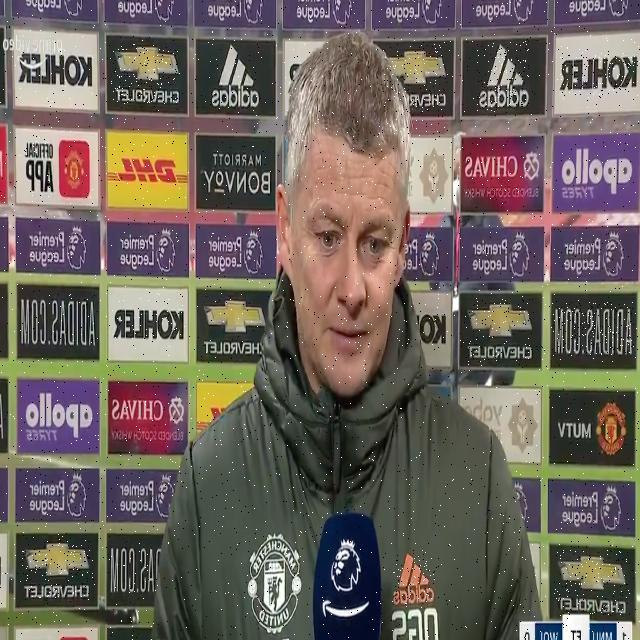Adidas: (551, 302, 634, 356), (19, 296, 98, 350), (208, 44, 261, 112), (477, 40, 529, 108), (392, 550, 435, 606)
Chevrolet: (553, 550, 629, 616), (465, 298, 535, 362), (22, 538, 90, 602), (383, 44, 447, 112), (111, 44, 180, 104)
Kohler: (560, 53, 638, 95), (17, 49, 93, 89), (113, 305, 186, 341)
